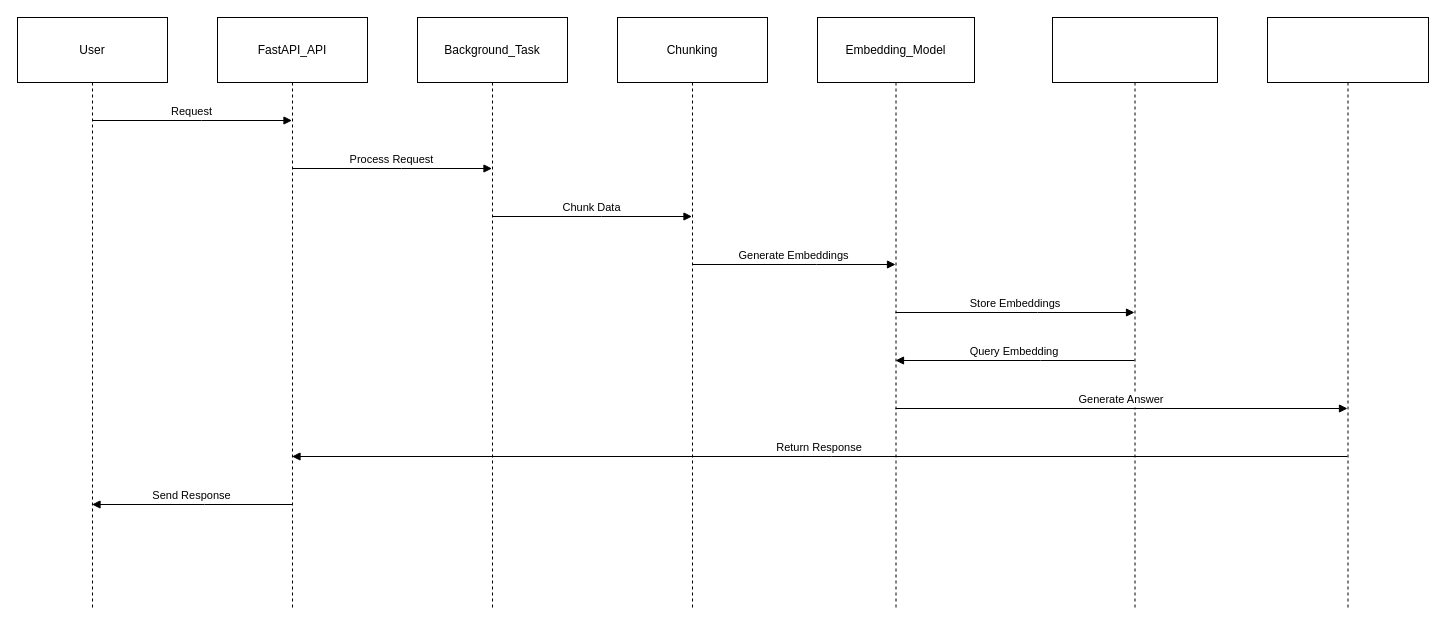
The diagram is 1446 pixels wide and 627 high, and some of its shapes have lost their labels. Here are the shapes that lost their labels. From the top down, the box of each, then its label:
(1052, 16, 1218, 610): FAISS_Vector_Store
(1266, 16, 1428, 610): Answer_Generation
